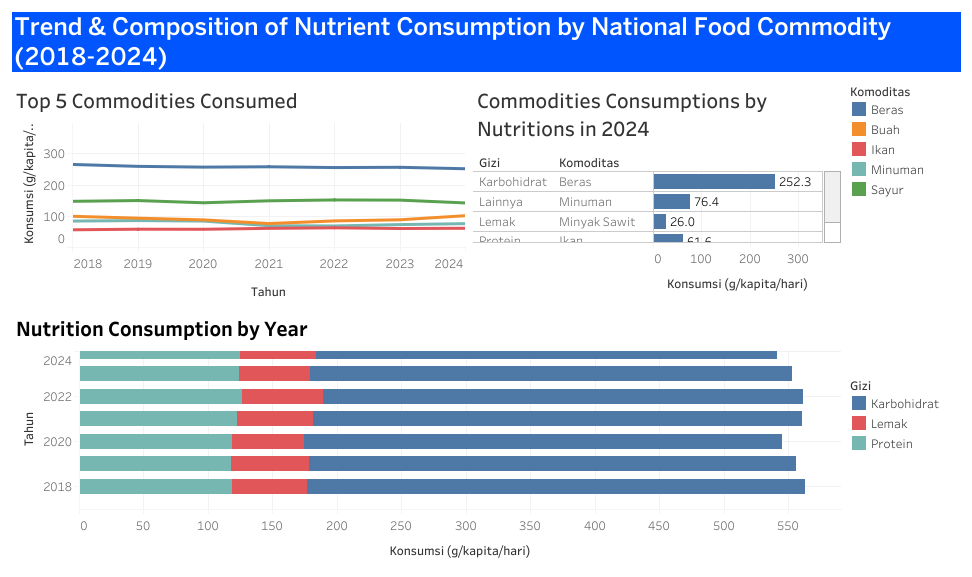

The dashboard page shown, as its layout file describes it:
{"tool":"tableau","page":{"name":"Dashboard 1","canvas":[1000,1000],"units":"permille","ordinal":0},"visuals":[{"type":"title","box":[7.8,12.4,984.4,102.5]},{"type":"worksheet","title":"Sheet 2","mark":"Automatic","rows":["Konsumsi (g/kapita/hari)"],"cols":["Tahun"],"box":[7.8,114.9,477.5,402.2]},{"type":"worksheet","title":"Sheet 9","mark":"Automatic","rows":["Gizi","Komoditas"],"cols":["Konsumsi (g/kapita/hari)"],"box":[485.4,114.9,389.7,402.2]},{"type":"legend","title":"Sheet 2","param":"[federated.1xtvucn19v8dul17tlarv1f6oddy].[none:Komoditas:nk]","box":[875,114.9,117.2,456.5]},{"type":"worksheet","title":"Sheet 10","mark":"Bar","rows":["Tahun"],"cols":["Konsumsi (g/kapita/hari)"],"box":[7.8,517.1,867.2,470.5]},{"type":"legend","title":"Sheet 10","param":"[federated.1xtvucn19v8dul17tlarv1f6oddy].[none:Gizi:nk]","box":[875,571.4,117.2,133.5]}]}

Visuals, with their boxes on the dashboard's canvas, which has no fixed pixel size, in thousandths of its width and height (x1, y1, x2, y2). These are canvas units, not pixel positions in the 972x577 screenshot, which may show the page scaled, cropped or inside an application window:
title: Rect(8, 12, 992, 115)
"Sheet 2" worksheet: Rect(8, 115, 485, 517)
"Sheet 9" worksheet: Rect(485, 115, 875, 517)
"Sheet 2" legend: Rect(875, 115, 992, 571)
"Sheet 10" worksheet (Bar marks): Rect(8, 517, 875, 988)
"Sheet 10" legend: Rect(875, 571, 992, 705)
